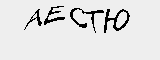А: (23, 7, 44, 31)
Е: (45, 3, 68, 25)
С: (70, 4, 88, 30)
Т: (84, 8, 103, 33)
Ю: (103, 7, 130, 34)
